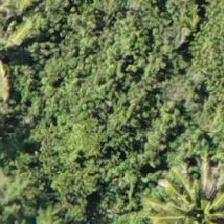coconut_tree: (0, 174, 75, 223)
